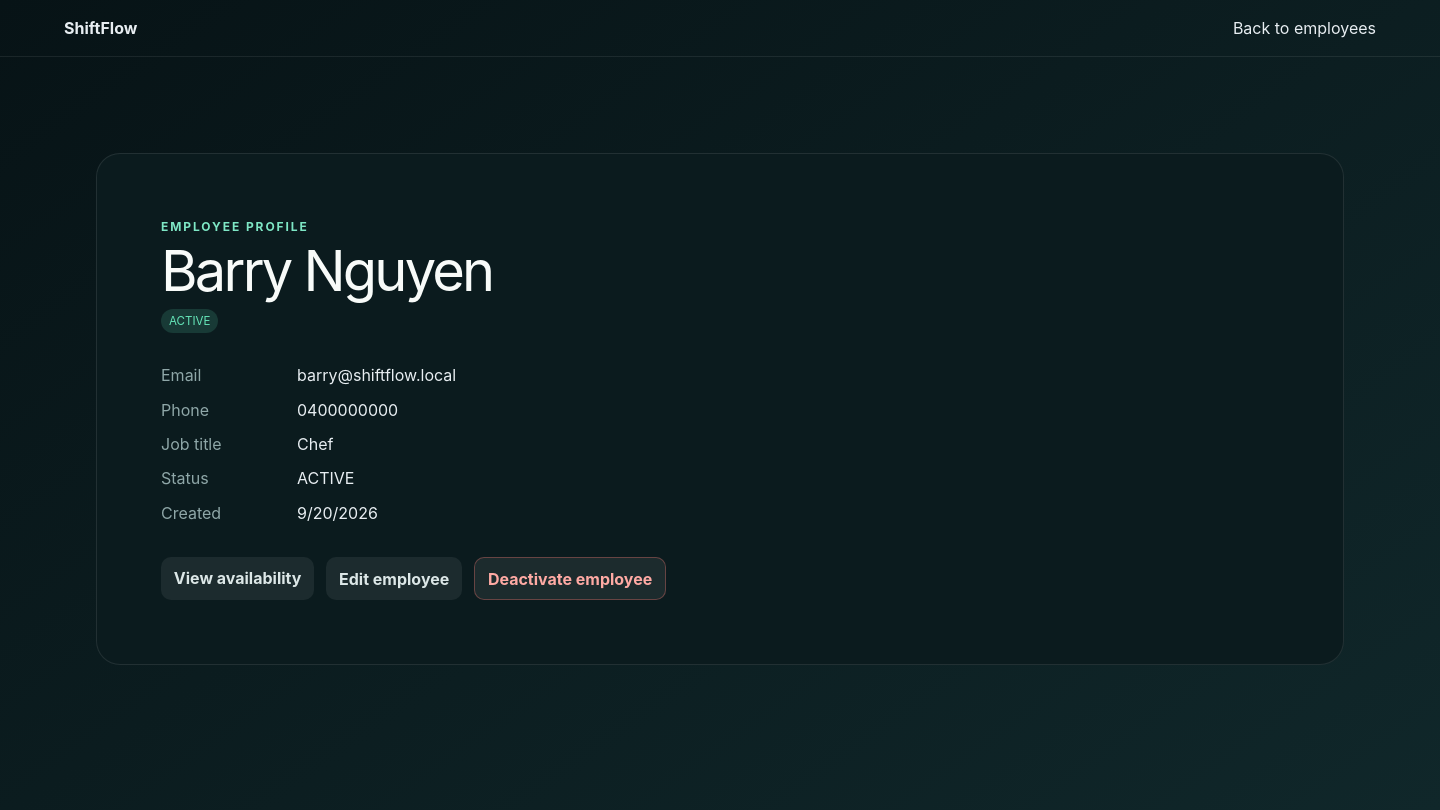
Test: employee UI › updates employee details
Expected: the heading "Barry Nguyen" is shown, [161,237,492,305]
Click the button "Edit employee". click: [394, 578]
box: [326,557,462,600]
(page scrolled)
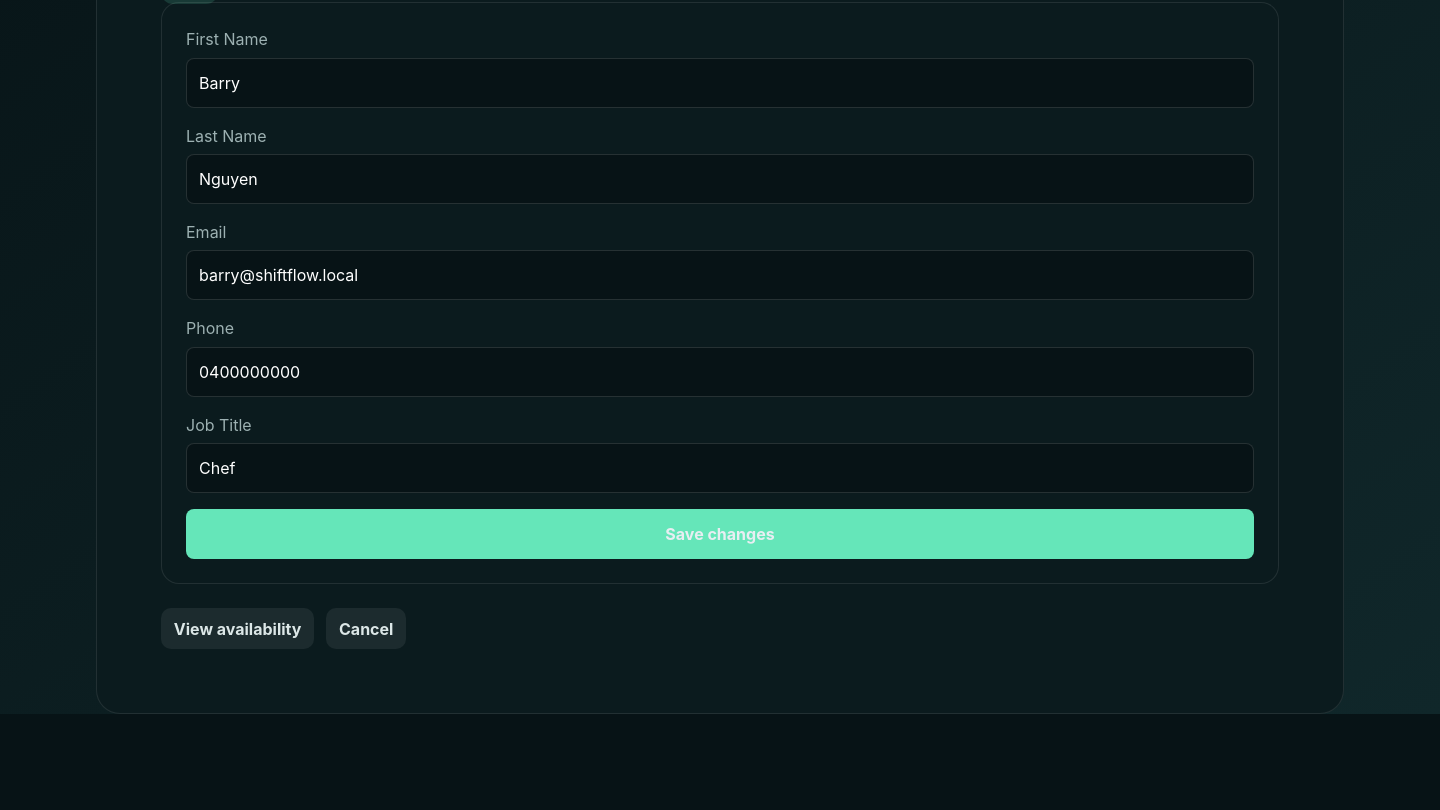
Replace the text in the field labelled "job Title" with "Head Chef". click: [720, 468]
box: [186,443,1254,493]
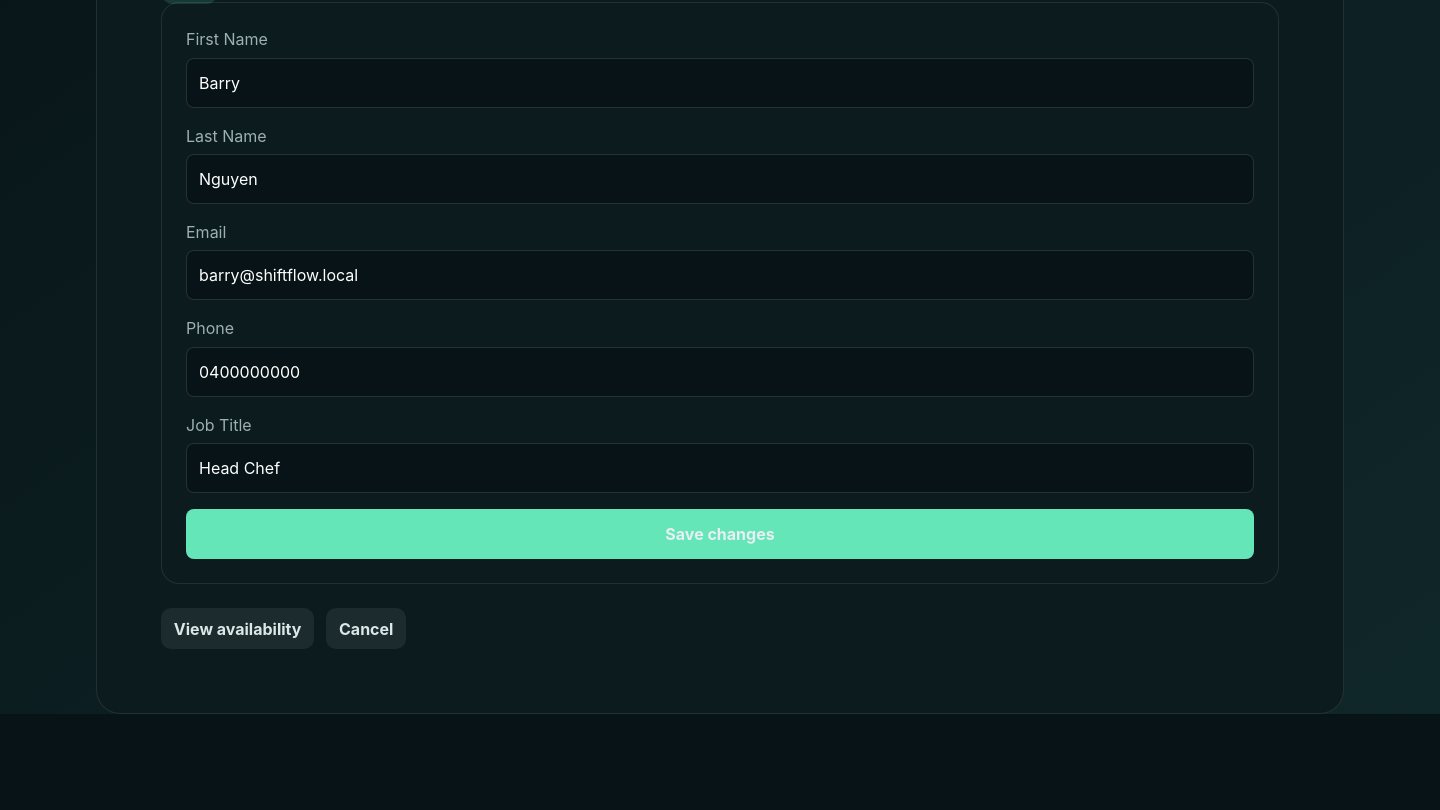
Click the button "Save changes". click: [720, 534]
box: [186,509,1254,559]
(page scrolled)
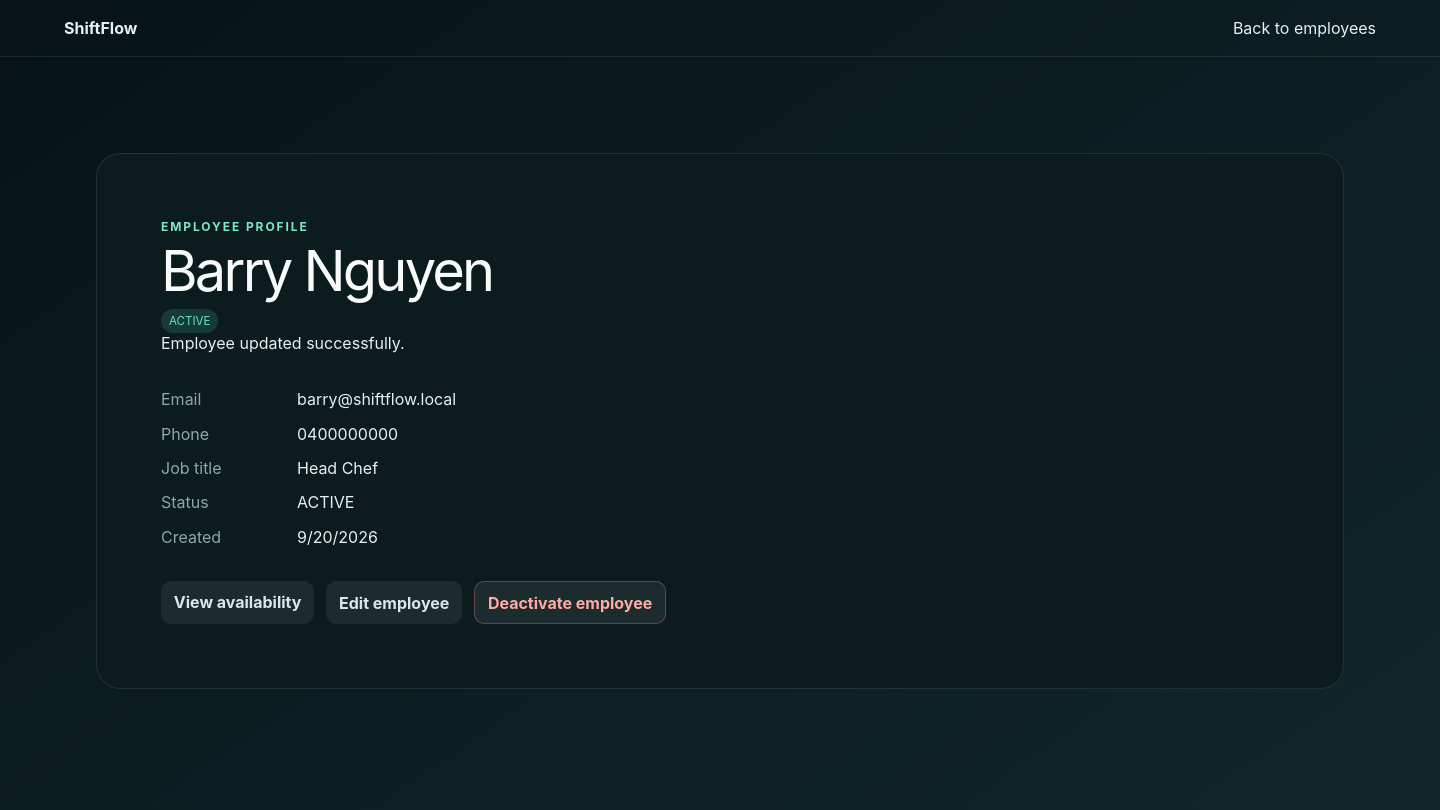
Now the text "Employee updated successfully." is shown, box [161,333,405,353]
Now the text "Head Chef" is shown, box [297,458,378,478]
